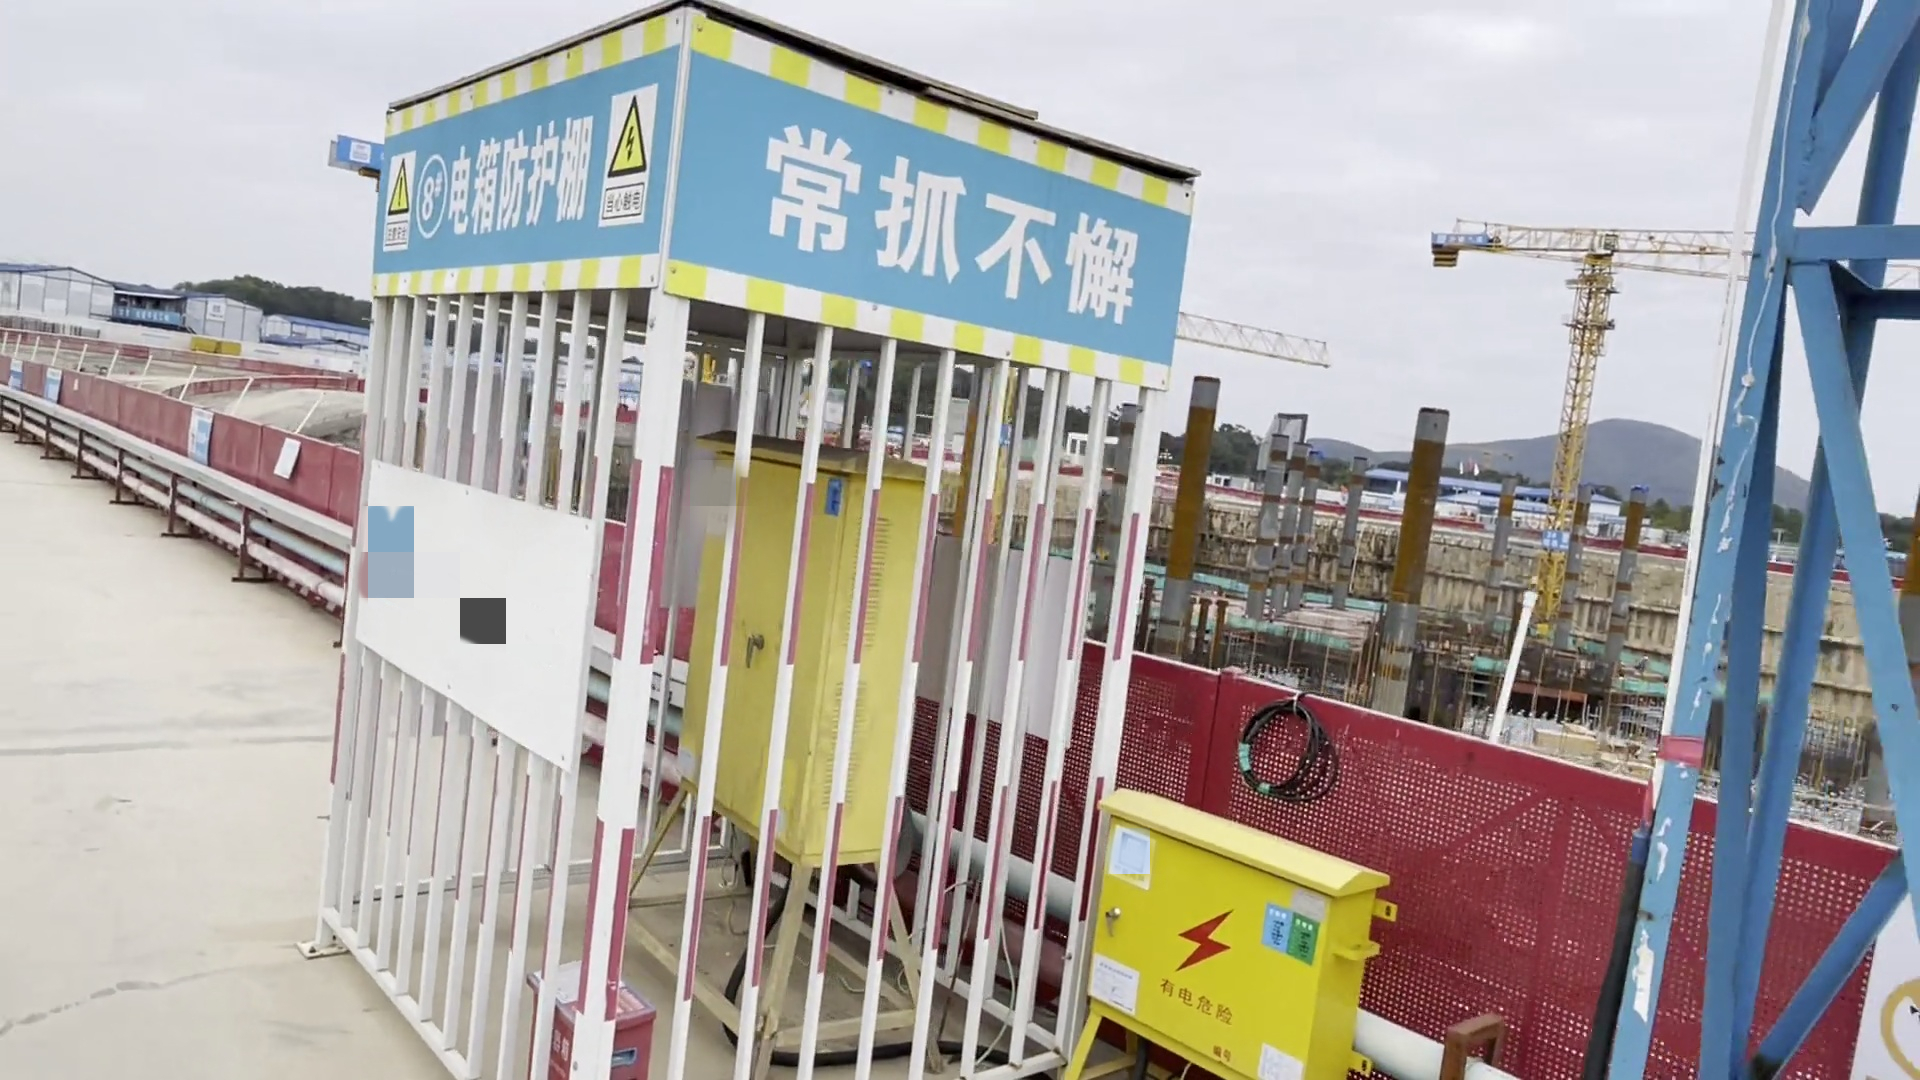ebox: (669, 404, 990, 1048), (1056, 785, 1422, 1080)
